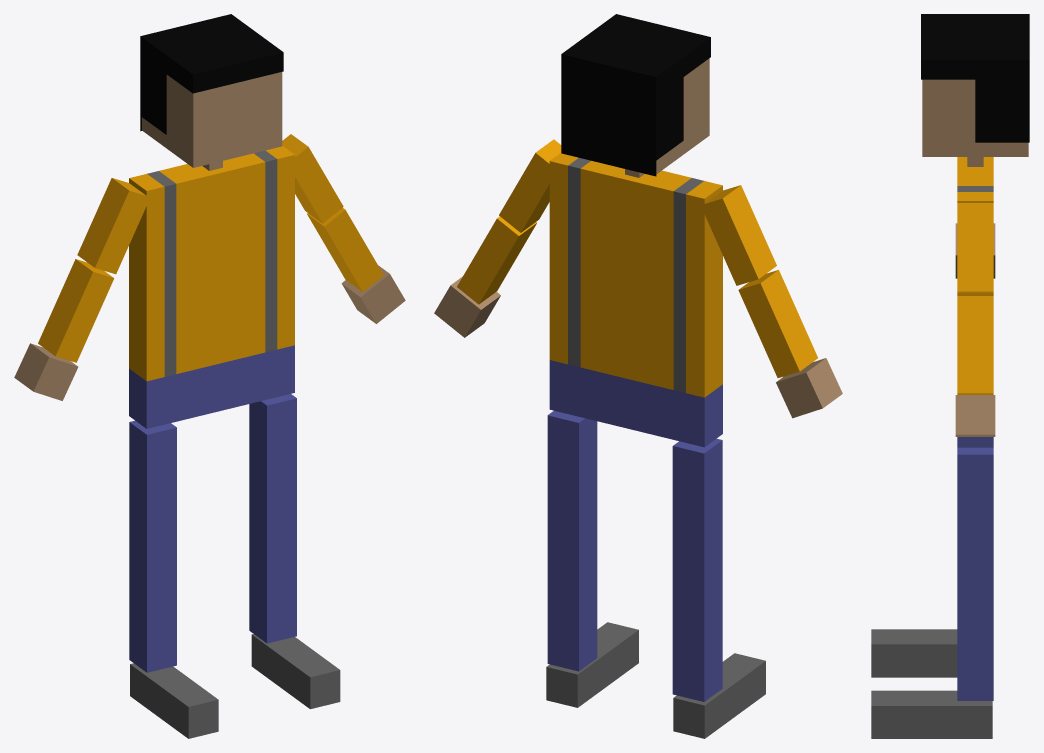
The model's file is Employee_No_Rig.fbx.
3 views of the same model, side by side, from view 1: azimuth 30°, elevation 25°; view 2: azimuth 150°, elevation 25°; view 3: azimuth 270°, elevation 25° (orthographic). The views are drawn at different scales.
Parts seen in each view (by area): view 1: Employee; view 2: Employee; view 3: Employee.
Part boxes in pixels (x1,y1,x2,y2): Employee: [14, 14, 405, 738]; Employee: [434, 14, 842, 738]; Employee: [871, 14, 1029, 738].
Size of the model in its own units: 4.18 by 6.87 by 1.49.
